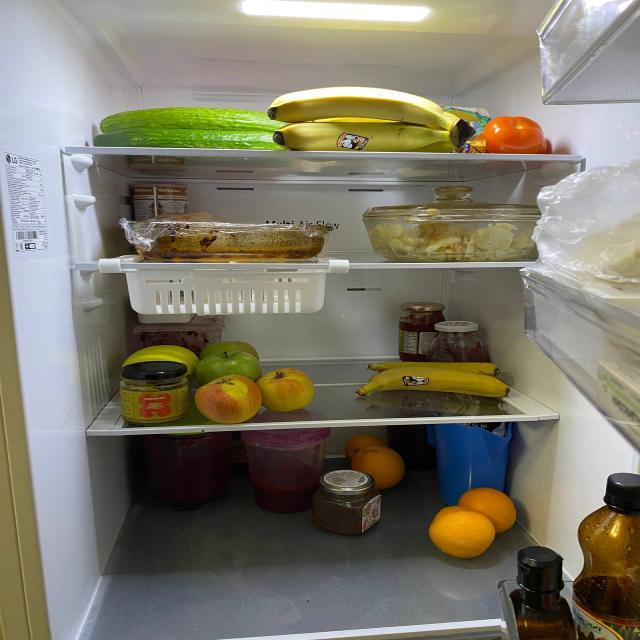Apple: (196, 376, 264, 427), (260, 369, 318, 411), (196, 354, 264, 383), (198, 341, 260, 358)
Banana: (262, 82, 469, 154), (358, 368, 511, 398), (366, 362, 511, 375)
Cucumber: (86, 110, 282, 133), (79, 131, 282, 148)
Orange: (429, 505, 495, 556), (458, 488, 518, 530), (353, 446, 408, 487), (342, 436, 382, 454)
Tomato: (482, 119, 546, 152)
